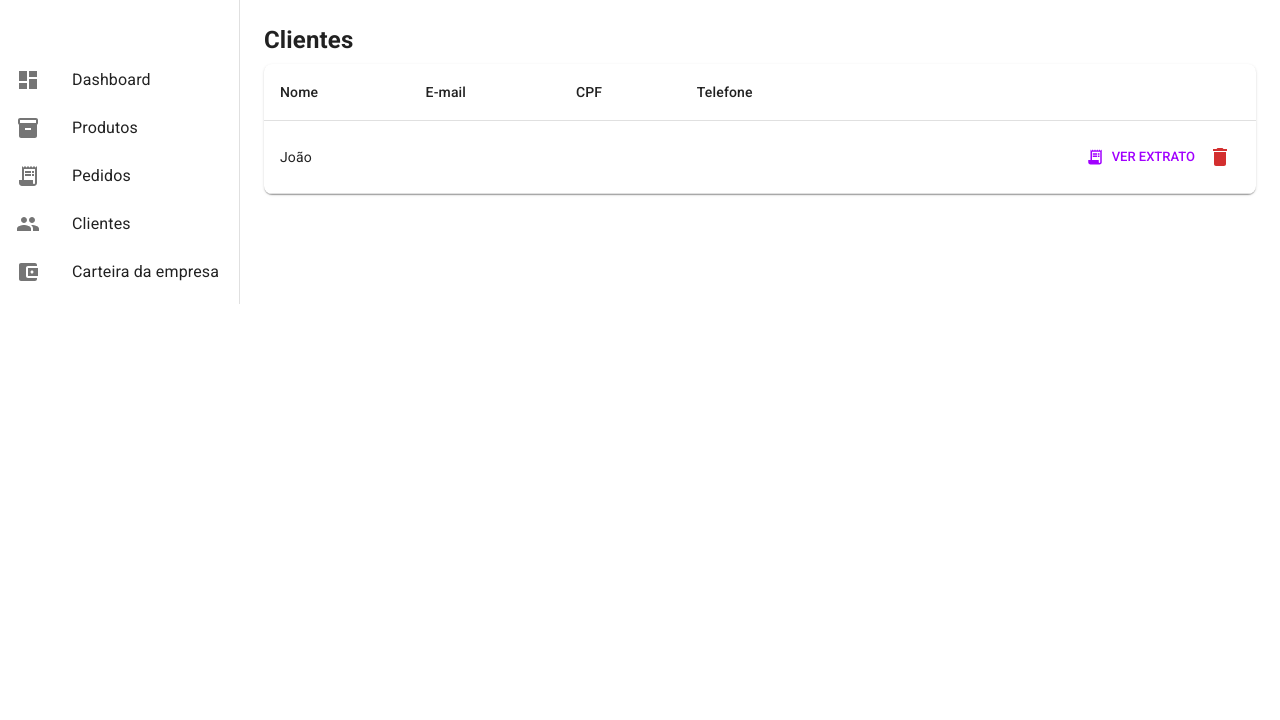
Scenario: AdminCustomers › abre drawer com extrato e fecha
This screenshot has width=1280, height=720.
expect the text "João" is shown: met, box [264, 121, 410, 194]
Click the button "Ver extrato".
click(1141, 157)  # box [1083, 142, 1200, 173]
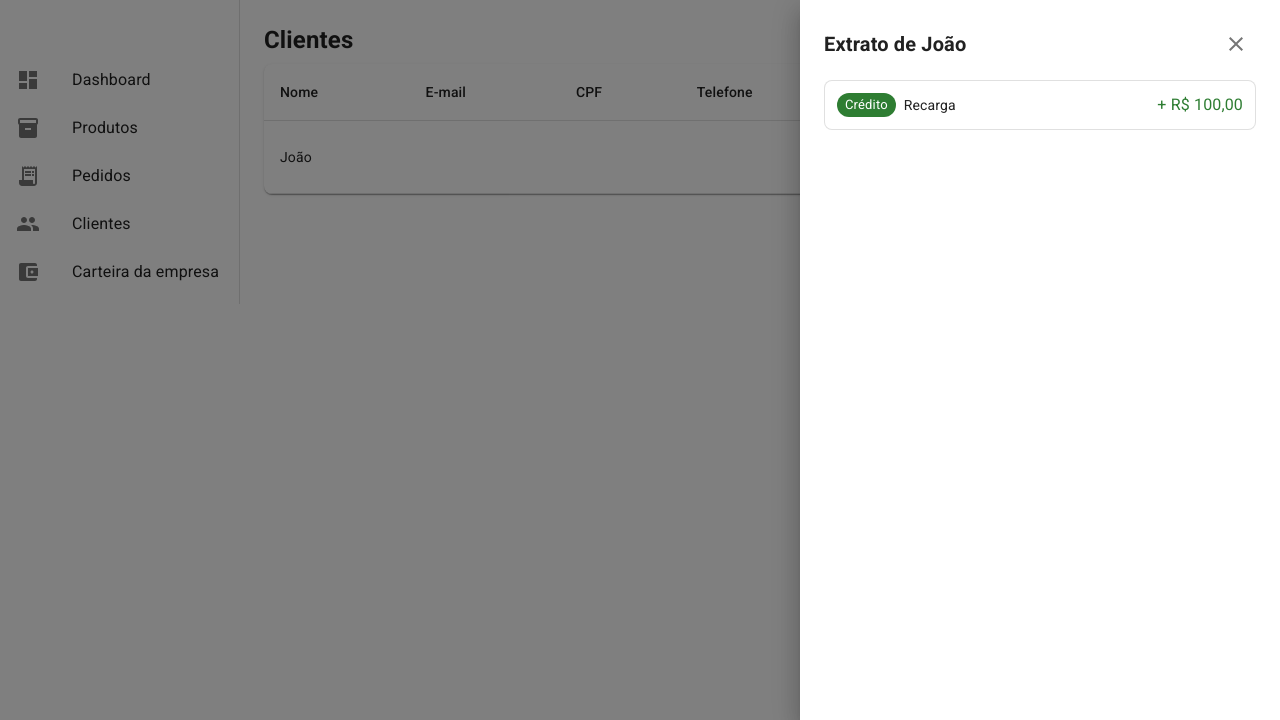
expect the text "Recarga" is shown: met, box [904, 95, 956, 115]
Click the button named "fechar".
click(1236, 44)  # box [1216, 24, 1256, 64]
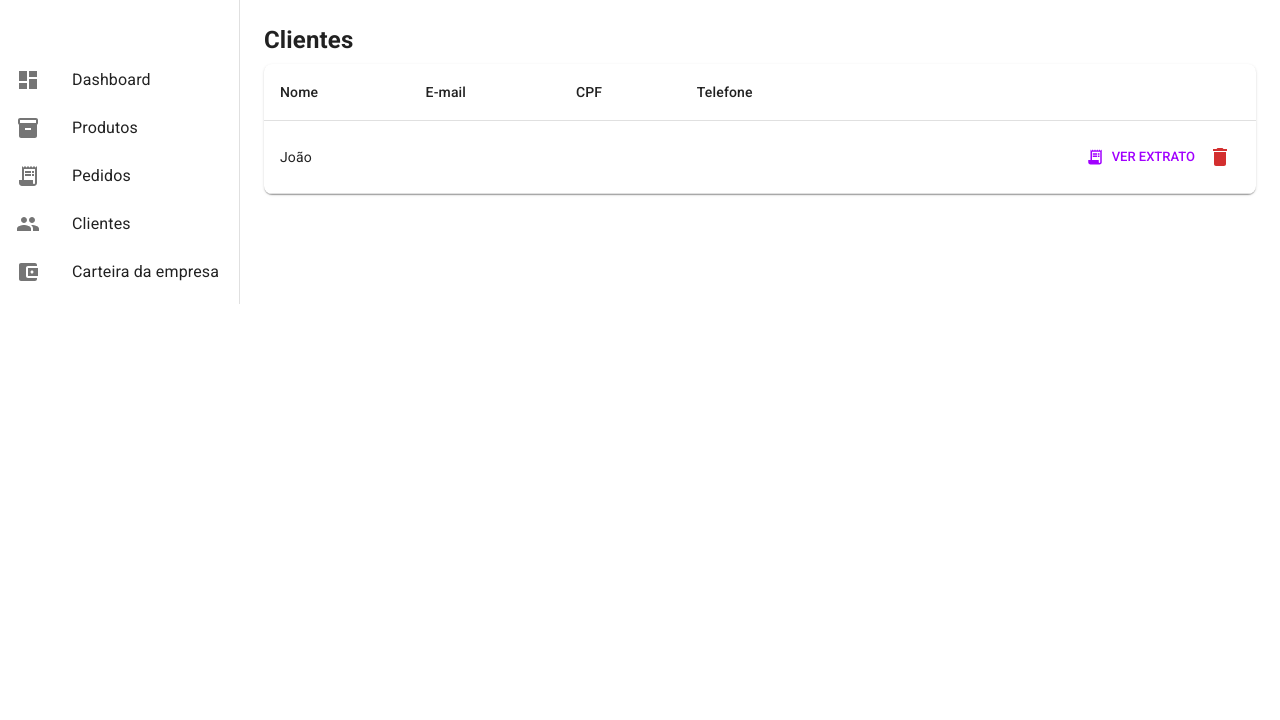
expect the text "Recarga" is gone: met
